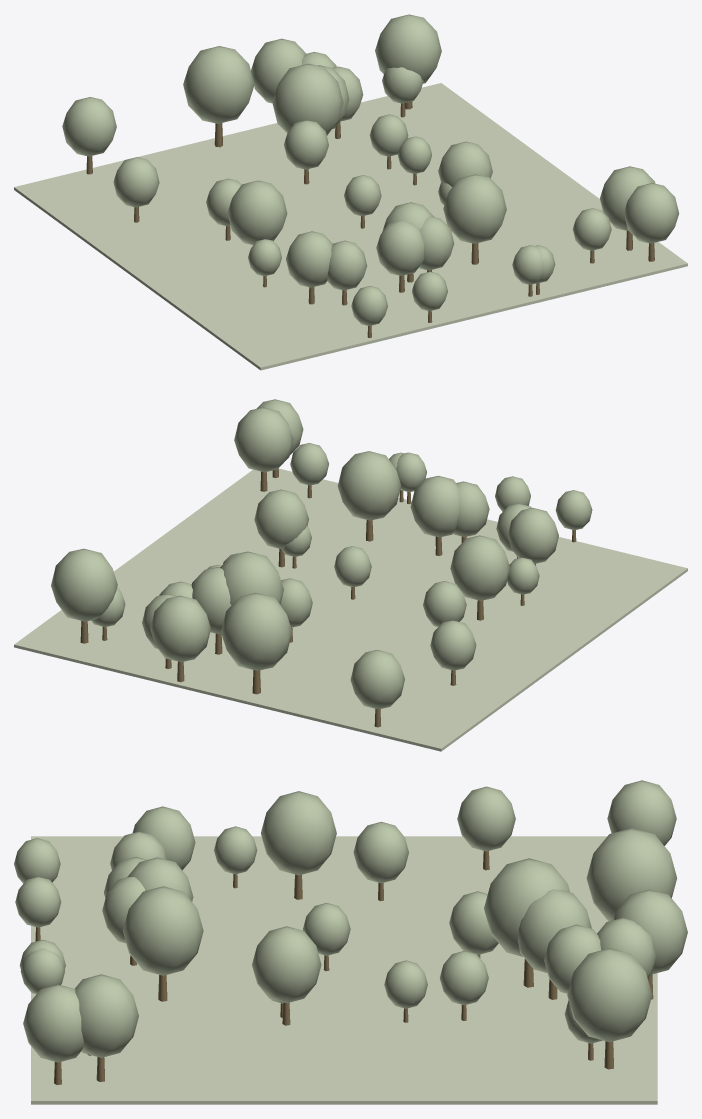
3 views of the same model, one above another, from view 1: azimuth 30°, elevation 25°; view 2: azimuth 150°, elevation 25°; view 3: azimuth 270°, elevation 25° (orthographic). The views are drawn at different scales.
Visible parts, largest first — view 1: terrain, lod-near-28, lod-near-31, lod-near-24, lod-near-23, lod-near-14, lod-near-21, lod-near-9, lod-near-8, lod-near-30, lod-near-13, lod-near-7 (+17 smaller); view 2: terrain, lod-near-28, lod-near-23, lod-near-24, lod-near-13, lod-near-14, lod-near-10, lod-near-9, lod-near-17, lod-near-1, lod-near-31, lod-near-30 (+14 smaller); view 3: terrain, lod-near-23, lod-near-24, lod-near-28, lod-near-14, lod-near-31, lod-near-10, lod-near-1, lod-near-21, lod-near-13, lod-near-26, lod-near-9 (+17 smaller).
Boxes of the visible parts, <box> form: terrain: <box>14,83,687,370</box>; lod-near-28: <box>183,46,254,123</box>; lod-near-31: <box>272,63,343,135</box>; lod-near-24: <box>443,174,506,243</box>; lod-near-23: <box>375,14,441,83</box>; lod-near-14: <box>227,180,287,244</box>; lod-near-21: <box>624,183,679,243</box>; lod-near-9: <box>62,97,116,156</box>; lod-near-8: <box>376,221,424,275</box>; lod-near-30: <box>286,231,332,287</box>; lod-near-13: <box>251,38,306,103</box>; lod-near-7: <box>113,157,159,207</box>; terrain: <box>14,468,687,751</box>; lod-near-28: <box>221,593,292,670</box>; lod-near-23: <box>51,548,117,621</box>; lod-near-24: <box>337,451,401,520</box>; lod-near-13: <box>150,595,210,662</box>; lod-near-14: <box>450,535,510,600</box>; lod-near-10: <box>234,407,293,472</box>; lod-near-9: <box>350,650,404,709</box>; lod-near-17: <box>410,475,459,537</box>; lod-near-1: <box>254,489,308,549</box>; lod-near-31: <box>220,551,283,605</box>; lod-near-30: <box>507,508,558,563</box>; terrain: <box>31,836,657,1104</box>; lod-near-23: <box>567,948,652,1042</box>; lod-near-24: <box>123,886,203,975</box>; lod-near-28: <box>586,828,677,921</box>; lod-near-14: <box>261,791,336,875</box>; lod-near-31: <box>484,858,569,956</box>; lod-near-10: <box>75,974,138,1057</box>; lod-near-1: <box>252,926,321,1003</box>; lod-near-21: <box>23,984,83,1062</box>; lod-near-13: <box>614,889,687,974</box>; lod-near-26: <box>517,889,591,972</box>; lod-near-9: <box>607,780,676,845</box>.
Size of the model in its own units: 32 by 7.3 by 34.43.
